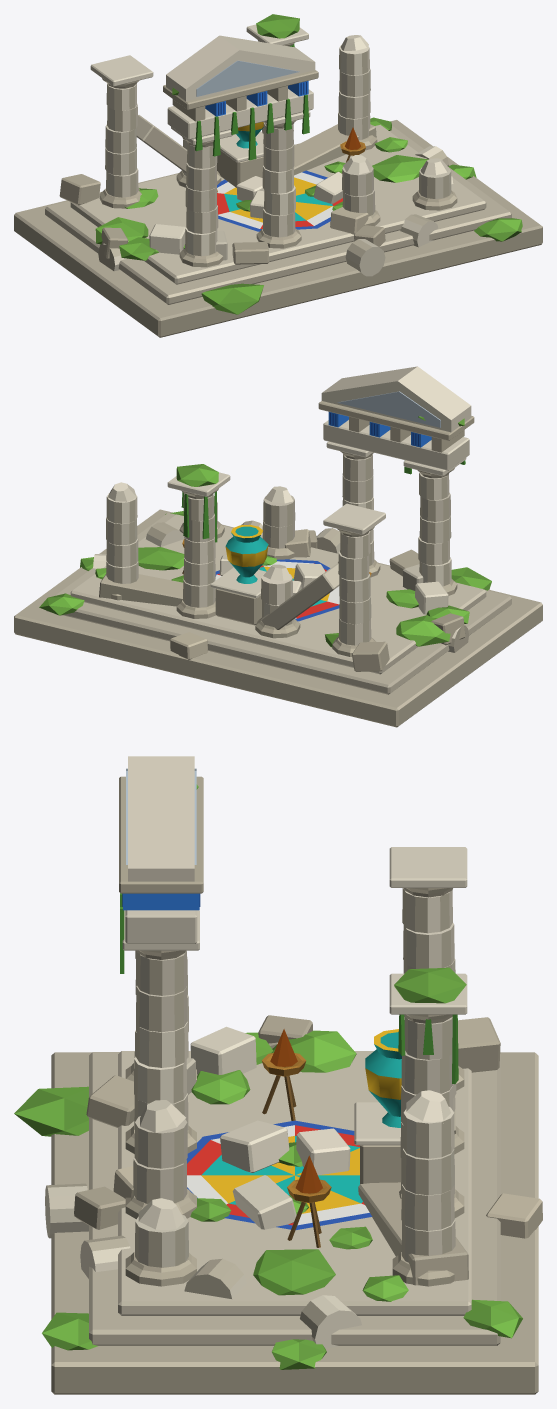
Rendered from ruins.glb.
3 views of the same model, one above another, from view 1: azimuth 30°, elevation 25°; view 2: azimuth 150°, elevation 25°; view 3: azimuth 270°, elevation 25° (orthographic). The views are drawn at different scales.
Parts seen in each view (by area): view 1: ruins; view 2: ruins; view 3: ruins.
Part boxes in pixels (x1,y1,x2,y2): ruins: [14, 14, 542, 337]; ruins: [14, 366, 542, 727]; ruins: [14, 756, 542, 1394].
Bounding box in the file's own units: 20.71 × 12.57 × 14.65.
Materials: 2 (2 with a texture image).
